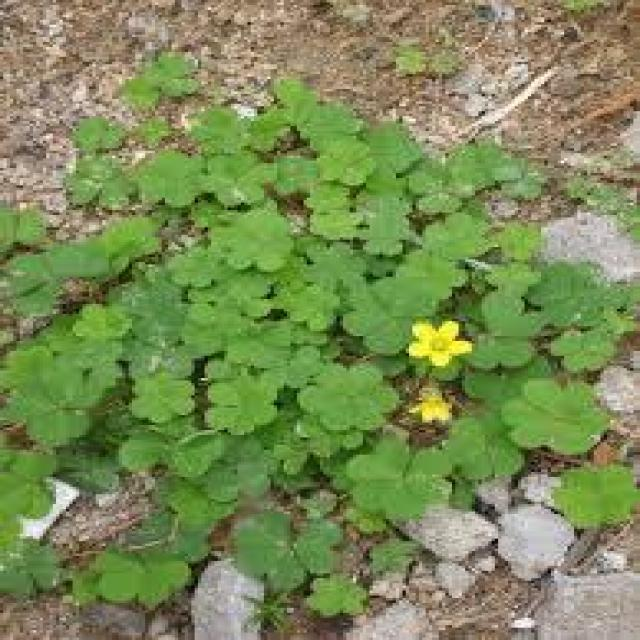organic waste: (406, 310, 482, 370), (403, 390, 465, 428)
